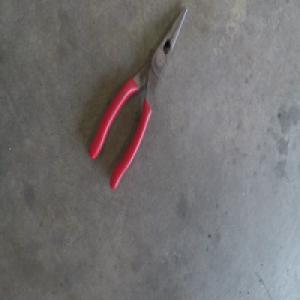Pliers: (83, 9, 184, 194)
